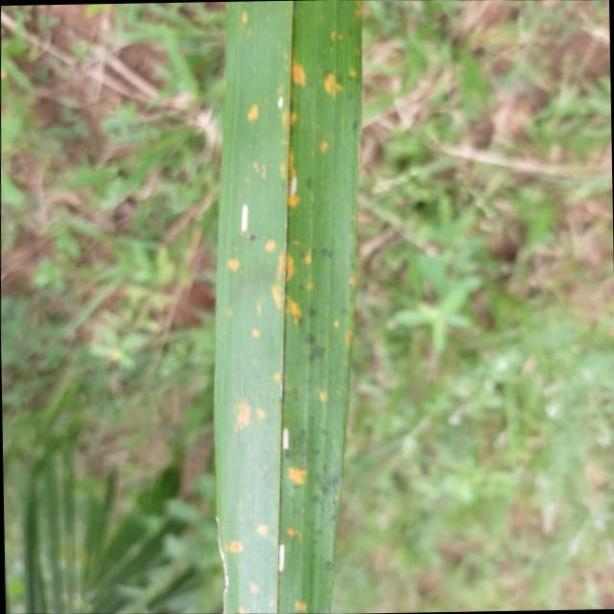Kalium: (216, 0, 372, 608)
